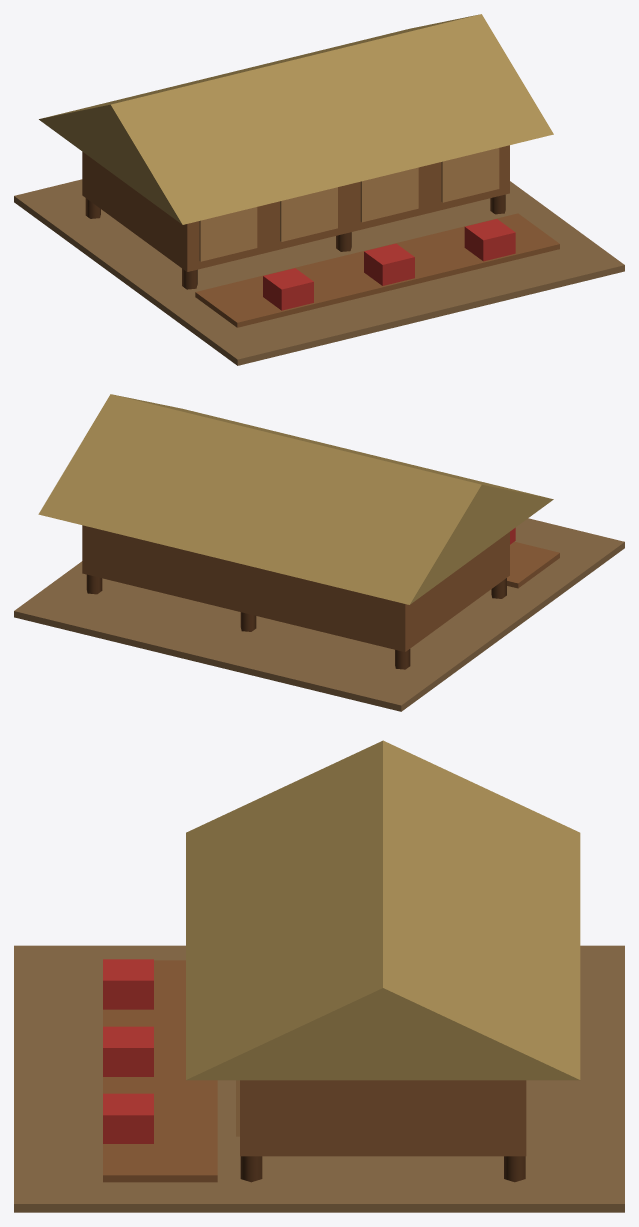
The model's file is zone_C_d2_e1.glb.
3 views of the same model, one above another, from view 1: azimuth 30°, elevation 25°; view 2: azimuth 150°, elevation 25°; view 3: azimuth 270°, elevation 25° (orthographic). The views are drawn at different scales.
Visible parts, largest first — view 1: zone_C_d2_e1; view 2: zone_C_d2_e1; view 3: zone_C_d2_e1.
Part boxes in pixels (x1=…): zone_C_d2_e1: x1=14, y1=14, x2=624, y2=365; zone_C_d2_e1: x1=14, y1=394, x2=624, y2=711; zone_C_d2_e1: x1=14, y1=740, x2=624, y2=1212.
Bounding box in the file's own units: 0.96 × 0.38 × 0.96.
